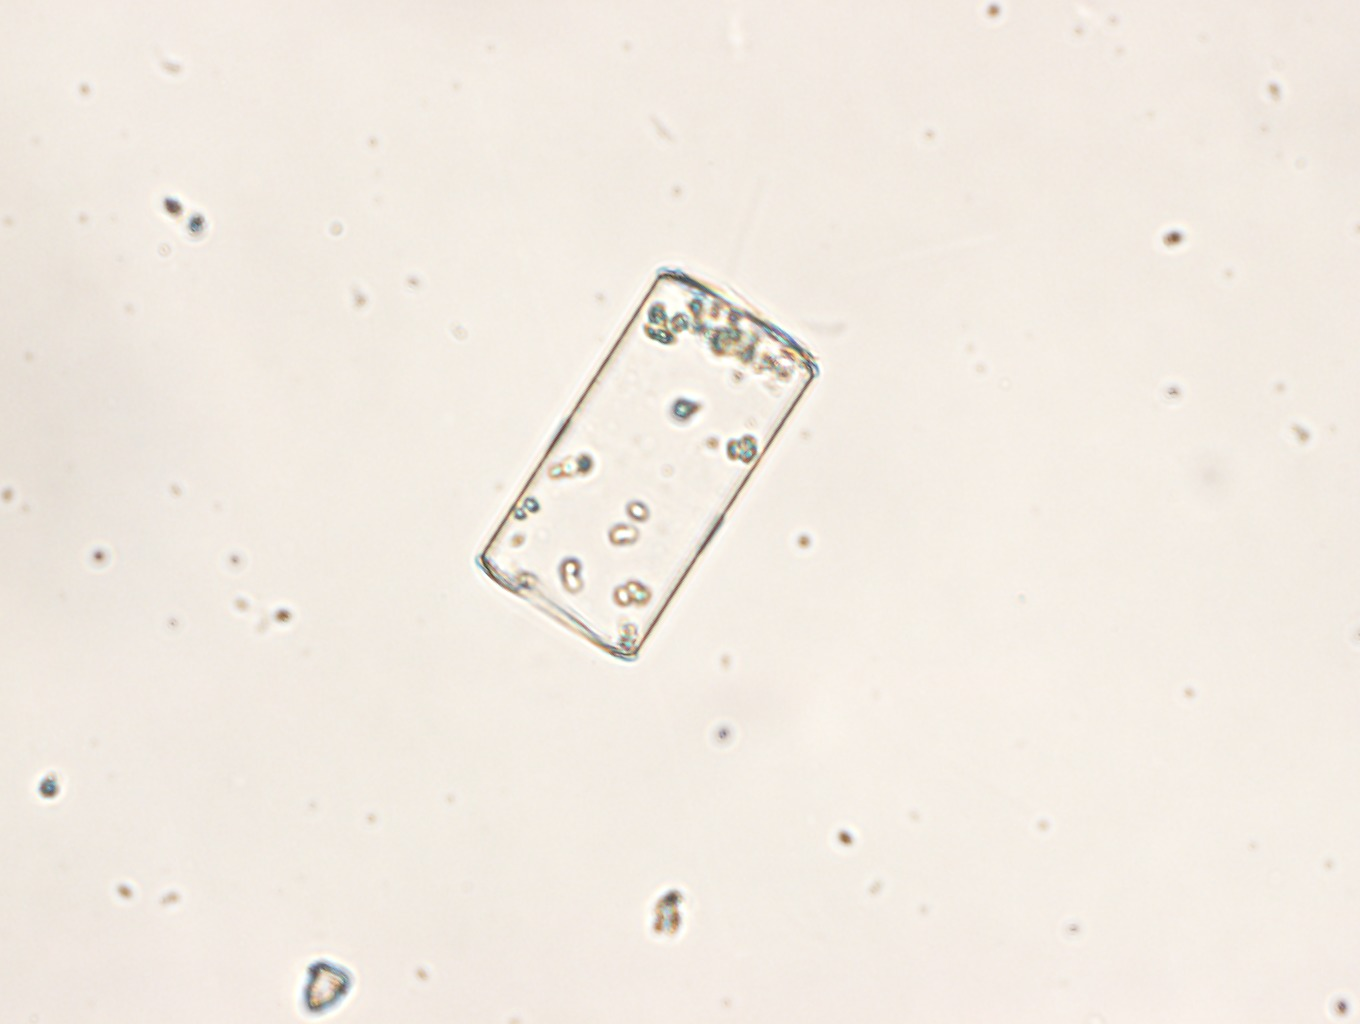guinardia flaccida: (476, 270, 812, 664)
